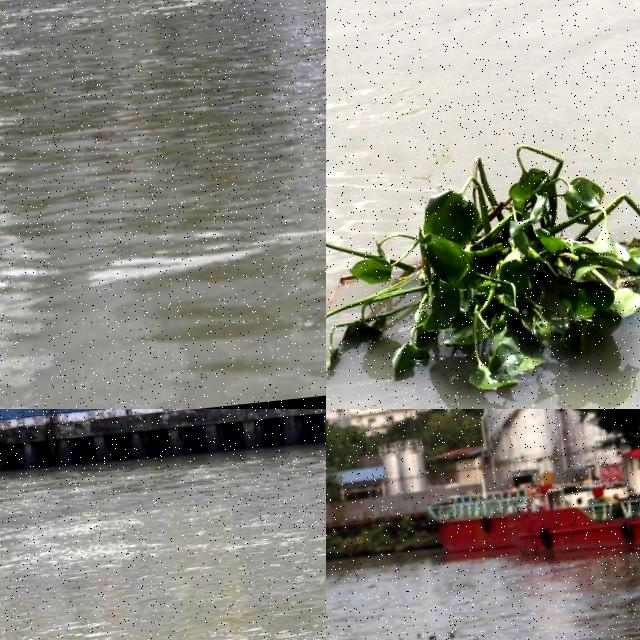water-hyacinth: (327, 118, 640, 410)
